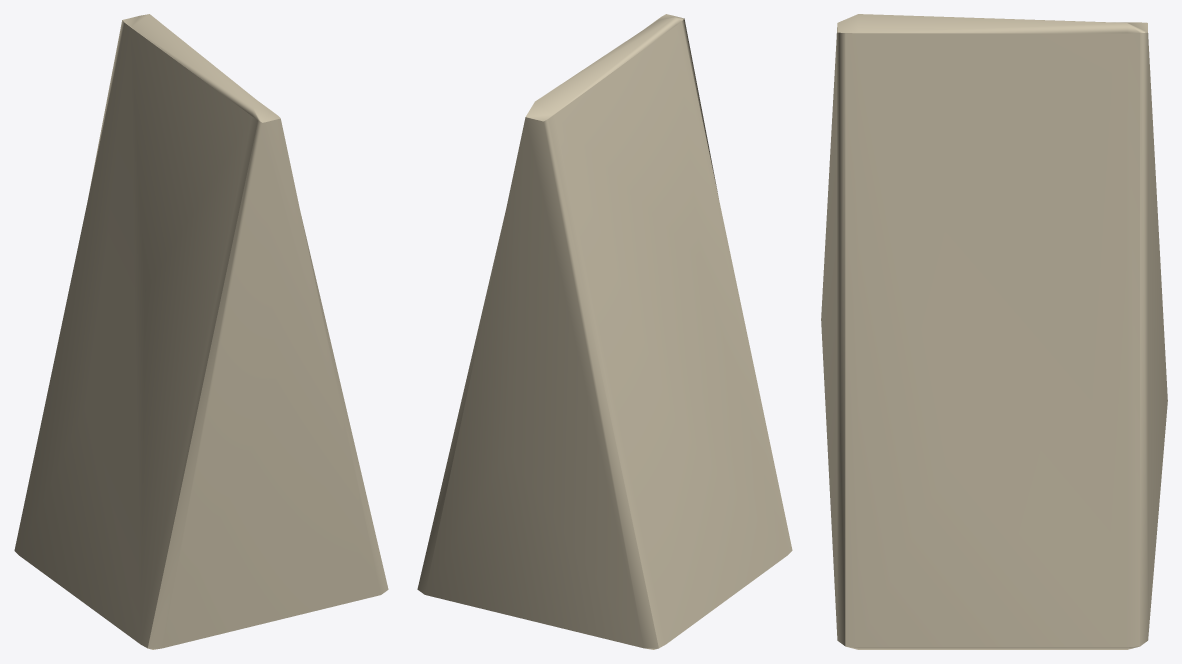
Rendered from pointy_roof.fbx.
3 views of the same model, side by side, from view 1: azimuth 30°, elevation 25°; view 2: azimuth 150°, elevation 25°; view 3: azimuth 270°, elevation 25° (orthographic). The views are drawn at different scales.
Visible parts, largest first — view 1: roof1; view 2: roof1; view 3: roof1.
Boxes of the visible parts, bbox=[...] form: roof1: bbox=[14, 14, 388, 649]; roof1: bbox=[417, 14, 792, 649]; roof1: bbox=[821, 14, 1167, 649].
Bounding box in the file's own units: 10 × 20.34 × 11.16.
